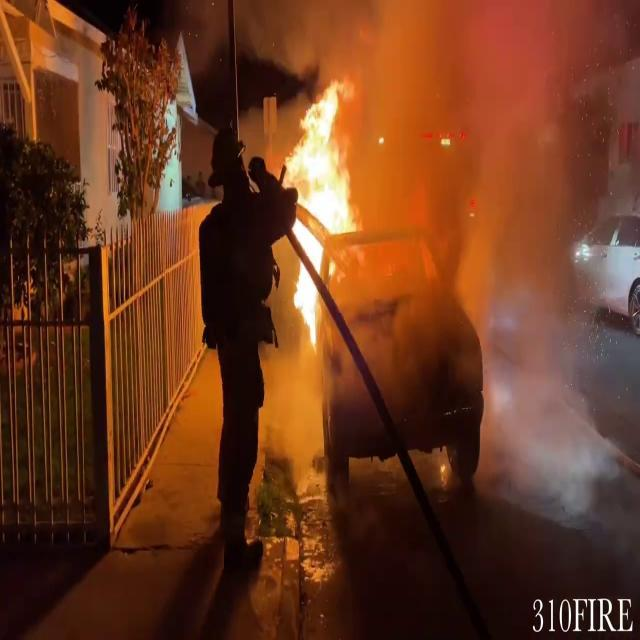Fire: (283, 76, 367, 348)
Smoke: (342, 1, 606, 358)
